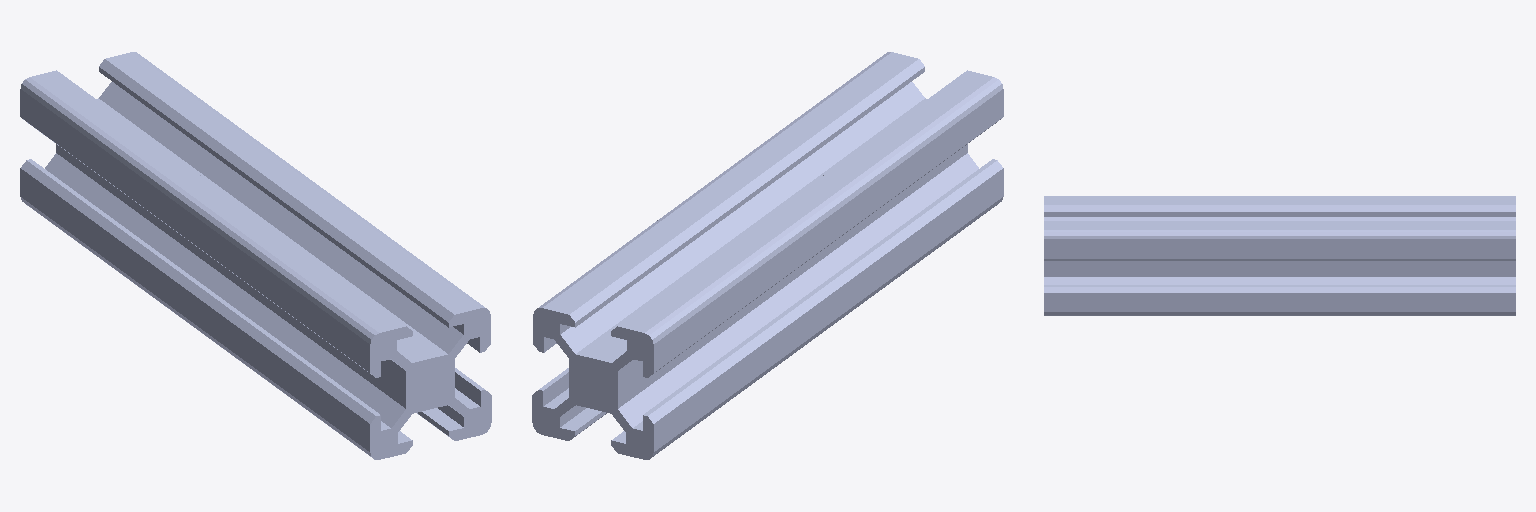
The robot description file, URDF, robot "Part2.SLDPRT":
<?xml version="1.0" encoding="utf-8"?>
<!-- This URDF was automatically created by SolidWorks to URDF Exporter! Originally created by [author] ([email redacted]) 
     Commit Version: 1.5.1-0-g916b5db  Build Version: 1.5.7152.31018
     For more information, please see http://wiki.ros.org/sw_urdf_exporter -->
<robot
  name="Part2.SLDPRT">
  <link
    name="Extrusion_20x20.SLDPRT">
    <inertial>
      <origin
        xyz="-0.0099598 -0.05 -0.010002"
        rpy="0 0 0" />
      <mass
        value="0.049" />
      <inertia
        ixx="1.6616E-05"
        ixy="1.71976230802367E-22"
        ixz="1.3681E-09"
        iyy="1.4254E-06"
        iyz="1.17743157296564E-21"
        izz="1.6613E-05"/>
    </inertial>
    <visual>
      <origin
        xyz="0 0 0"
        rpy="1.5707963267949 0 0" />
      <geometry>
        <mesh
          filename="package://suii_description/Field/objects/meshes/alu_prof_small_gray.STL" />
      </geometry>
      <material
        name="">
        <color
          rgba="0.79216 0.81961 0.93333 1" />
        <texture
          filename="package://suii_description/Field/objects/textures/" />
      </material>
    </visual>
    <collision>
      <origin
        xyz="0 0 0"
        rpy="1.5707963267949 0 0" />
      <geometry>
        <mesh
          filename="package://suii_description/Field/objects/meshes/alu_prof_small_gray.STL" />
      </geometry>
    </collision>
  </link>
</robot>

--- Facts derived from the render (not from the file) ---
3 views of the same robot in one strip: view 1: azimuth 30°, elevation 25°; view 2: azimuth 150°, elevation 25°; view 3: azimuth 270°, elevation 25° (orthographic).
Model Part2.SLDPRT with 1 links and 0 joints (none), rooted at Extrusion_20x20.SLDPRT, posed every joint at zero.
Visible links, largest first — view 1: Extrusion_20x20.SLDPRT; view 2: Extrusion_20x20.SLDPRT; view 3: Extrusion_20x20.SLDPRT.
Boxes of the visible links, x1,y1,x2,y2 form: Extrusion_20x20.SLDPRT: [20, 52, 491, 459]; Extrusion_20x20.SLDPRT: [532, 52, 1003, 459]; Extrusion_20x20.SLDPRT: [1044, 196, 1515, 315].
Size in the robot's own frame: 0.02 by 0.1 by 0.02 metres.
Meshes: 1 distinct files referenced, 1 mesh visuals loaded (1 binary STL).
